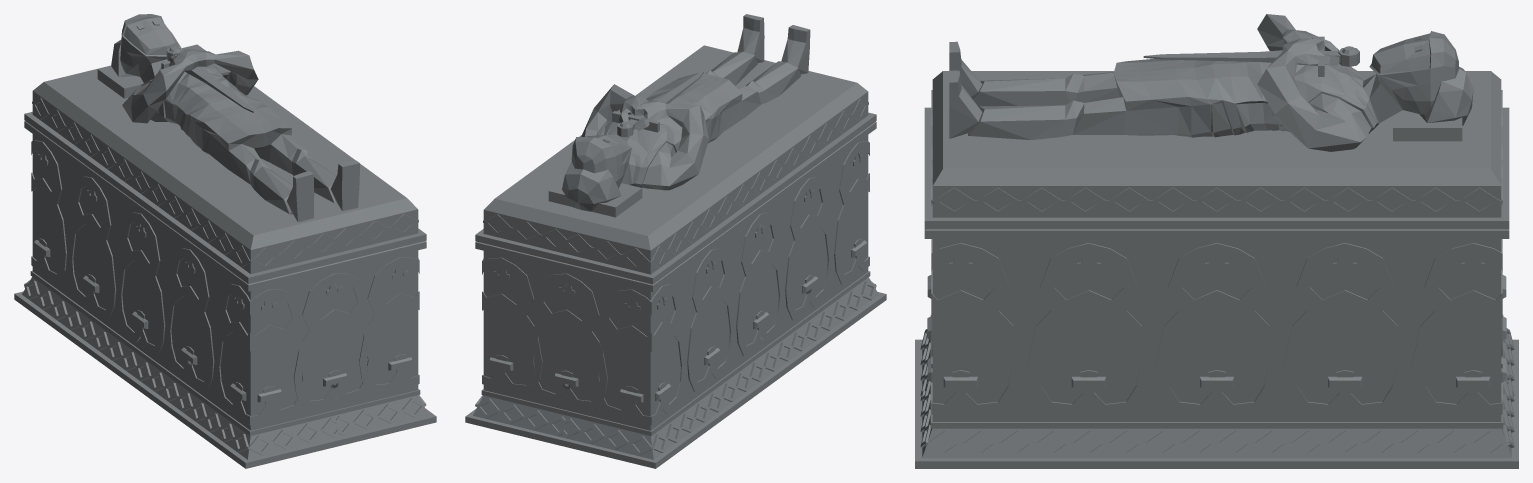
Rendered from Cercueil_Homme.FBX.
3 views of the same model, side by side, from view 1: azimuth 30°, elevation 25°; view 2: azimuth 150°, elevation 25°; view 3: azimuth 270°, elevation 25° (orthographic). The views are drawn at different scales.
Parts seen in each view (by area): view 1: Cercueil_Homme; view 2: Cercueil_Homme; view 3: Cercueil_Homme.
Part boxes in pixels (x1=…): Cercueil_Homme: x1=14, y1=14, x2=436, y2=468; Cercueil_Homme: x1=465, y1=14, x2=886, y2=468; Cercueil_Homme: x1=915, y1=14, x2=1518, y2=468.
Bounding box in the file's own units: 100 × 142 × 210.
Materials: 1 (1 with a texture image).
